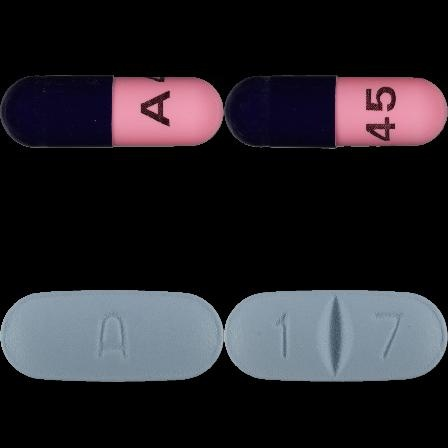66116-372: (0, 0, 224, 224)
